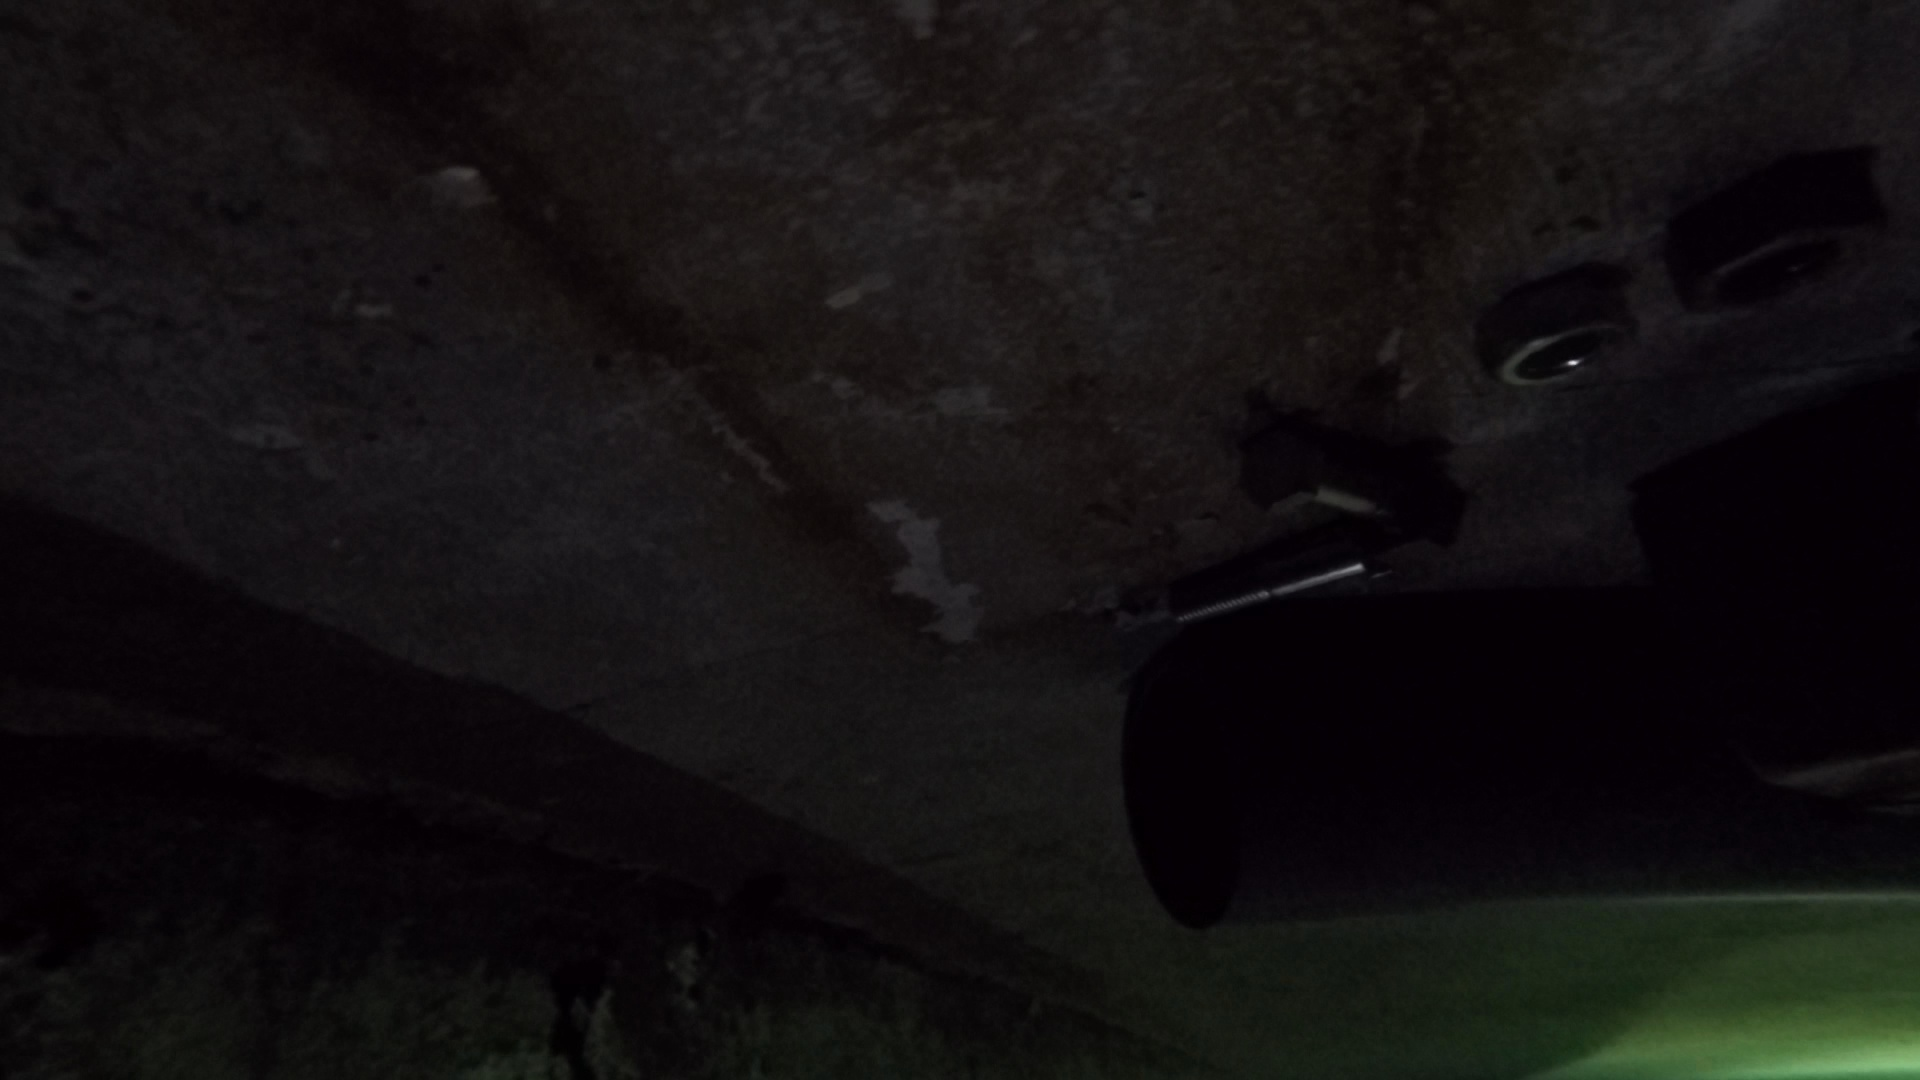bolt: (1240, 419, 1460, 551), (1168, 539, 1391, 622)
led_block: (1629, 377, 1902, 822)
nut: (1669, 164, 1884, 315), (1476, 268, 1636, 392)
pipe: (1121, 583, 1920, 928)
